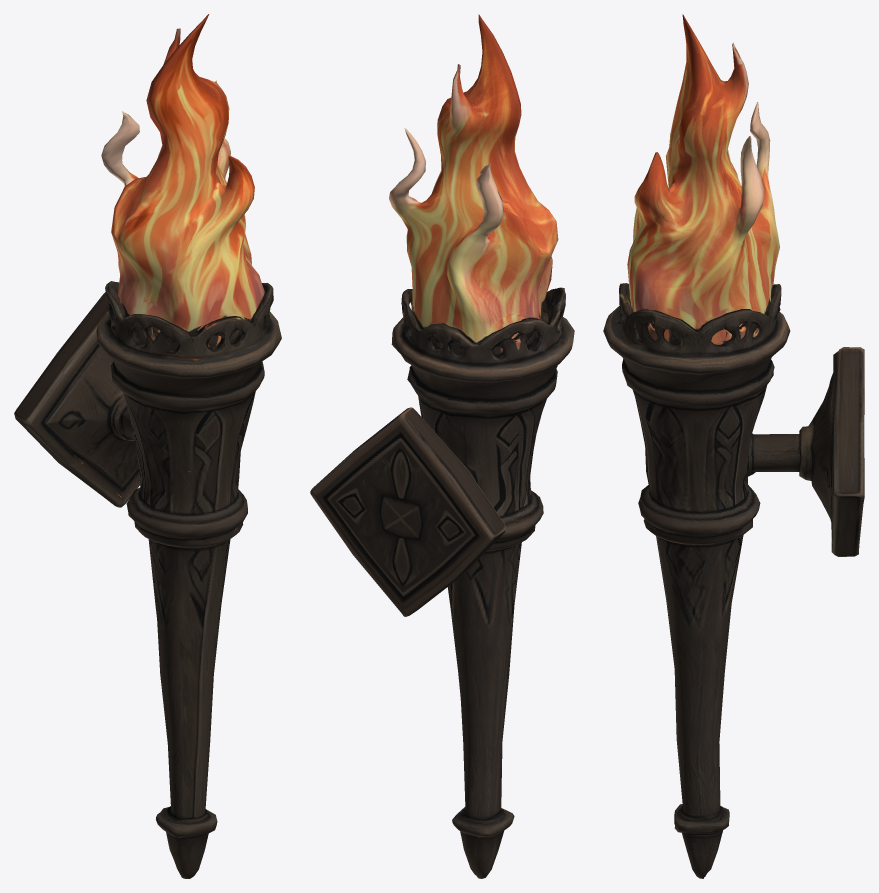
Rendered from Torchlight.glb.
3 views of the same model, side by side, from view 1: azimuth 30°, elevation 25°; view 2: azimuth 150°, elevation 25°; view 3: azimuth 270°, elevation 25° (orthographic).
Size of the model in its own units: 0.2163 by 0.9517 by 0.2593.
Materials: 1 (1 with a texture image).
